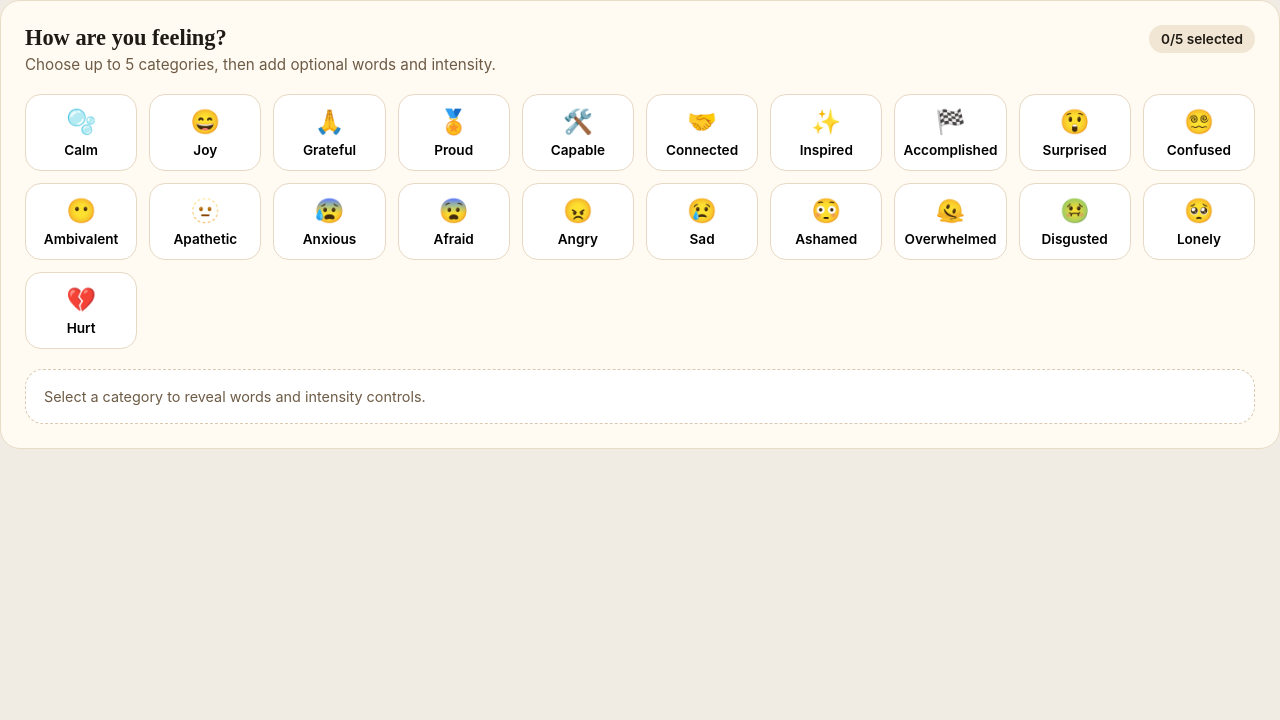
Test: EmotionPicker › enforces the max synonym cap per category
What coordinates should you click on to do the following:
click the button "🫧 Calm"
I would click on:
 (81, 132)
Its box is [25, 94, 137, 171].
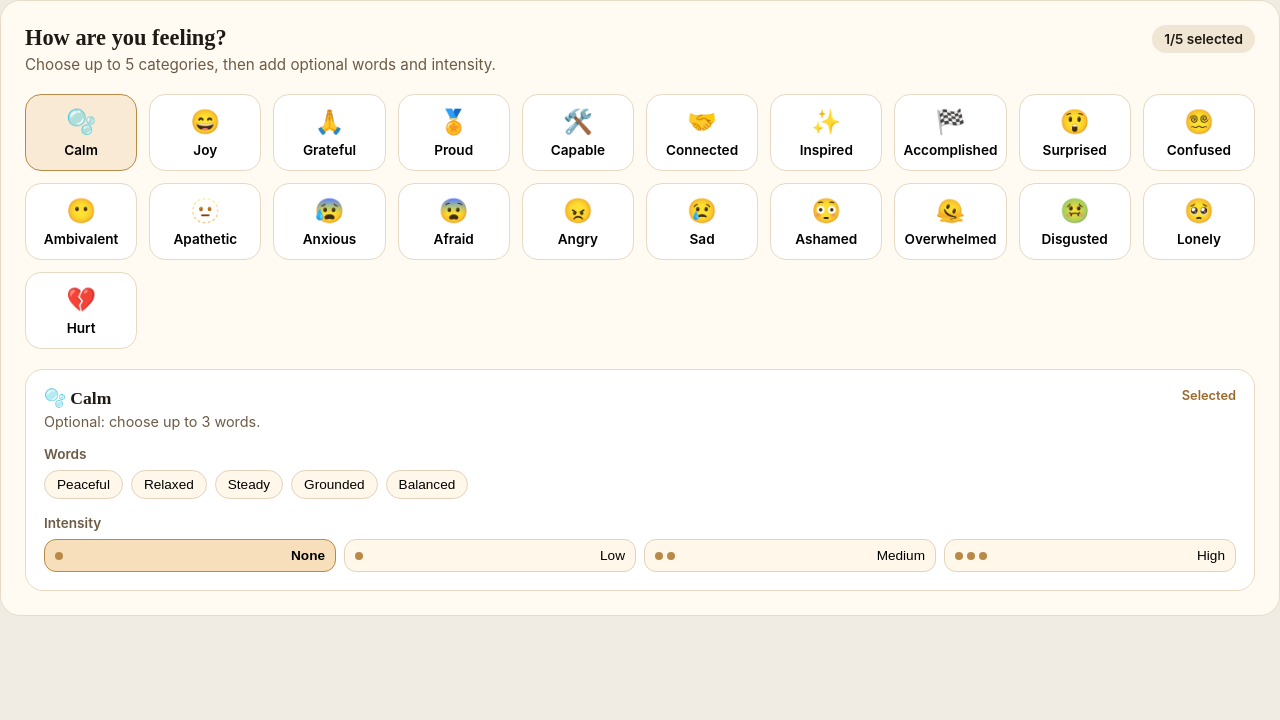
What coordinates should you click on to do the following:
click the button "Peaceful"
I would click on:
 (83, 484)
Its box is [44, 470, 123, 499].
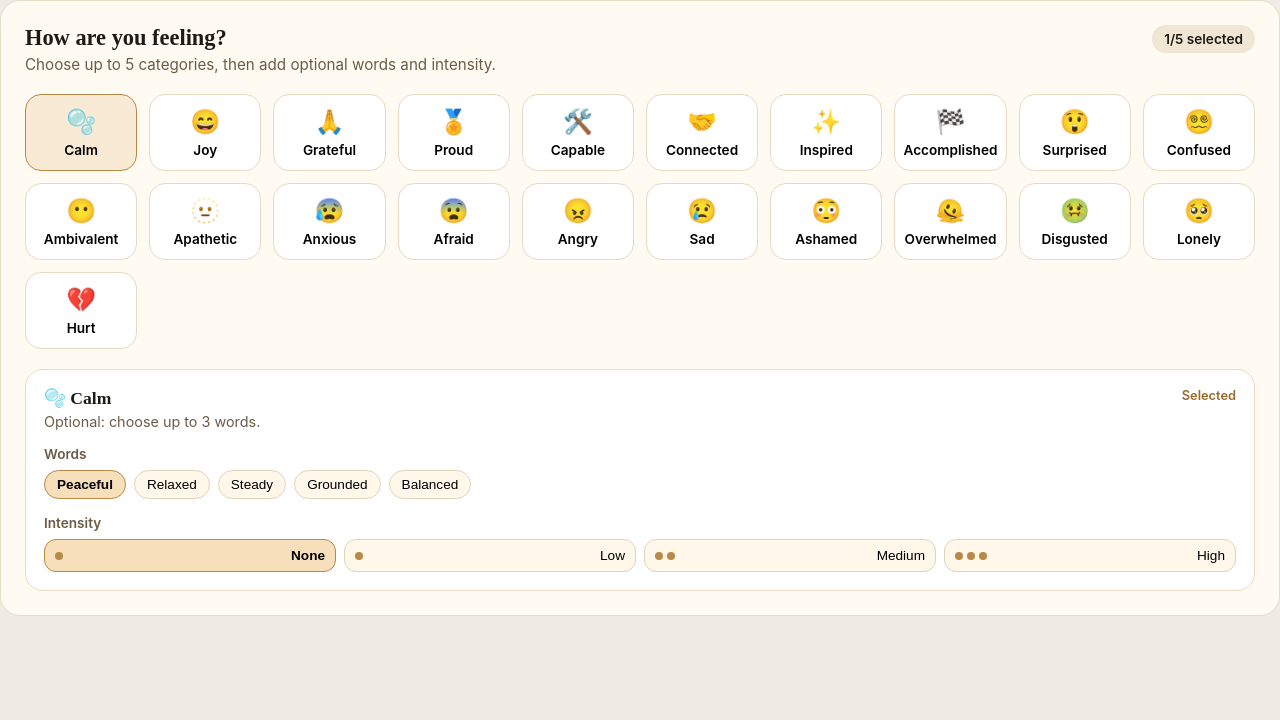
What coordinates should you click on to do the following:
click the button "Relaxed"
I would click on:
 (172, 484)
Its box is [134, 470, 210, 499].
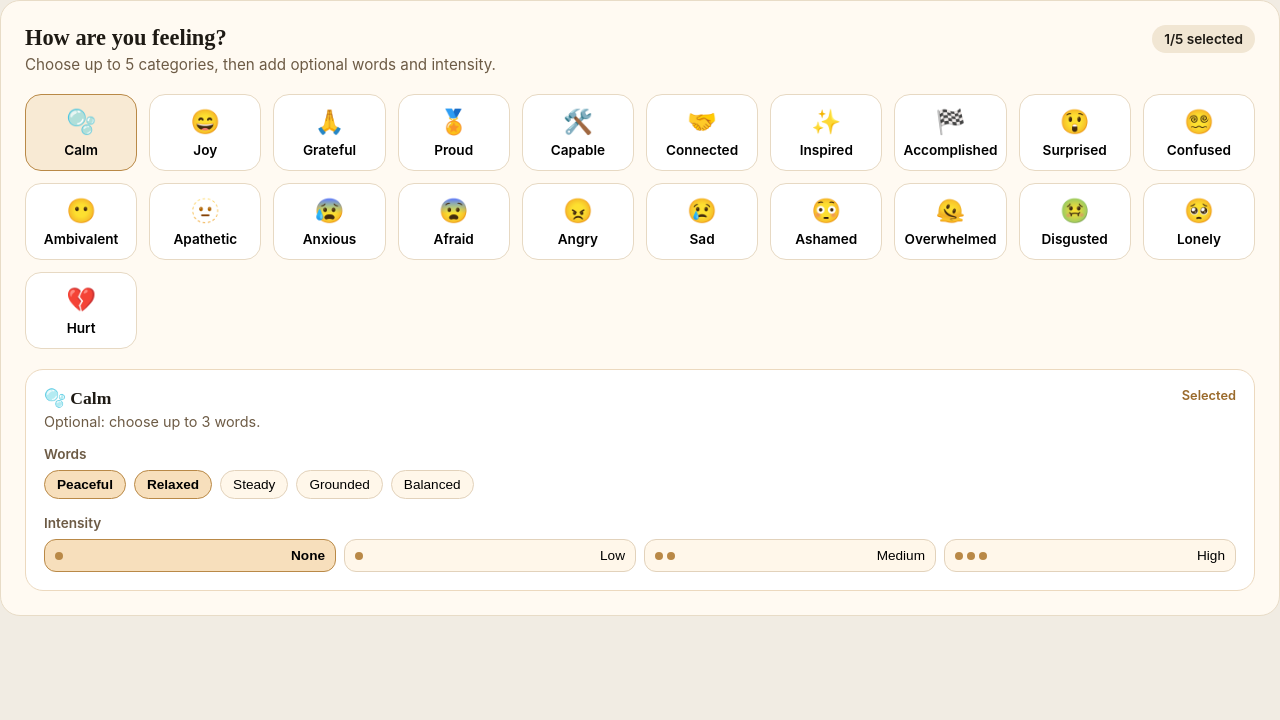
What coordinates should you click on to do the following:
click the button "Steady"
I would click on:
 (254, 484)
Its box is [220, 470, 288, 499].
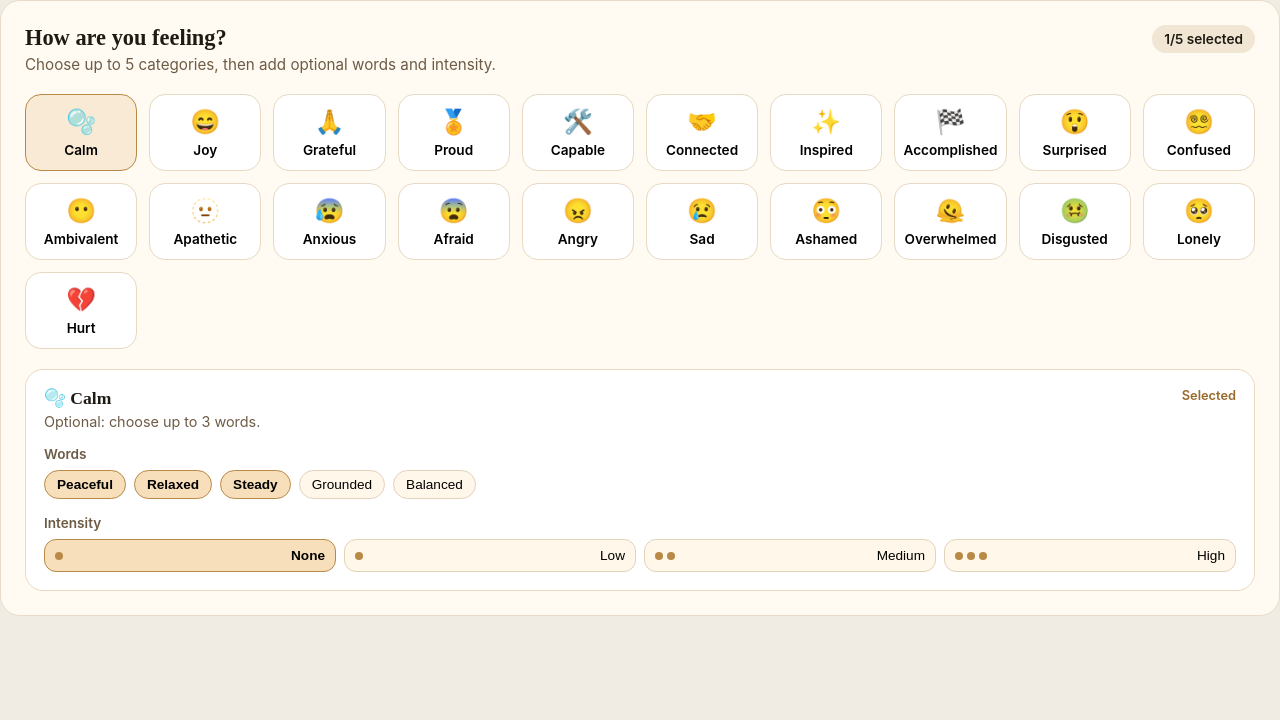
What coordinates should you click on to do the following:
click the button with aria-label "Grounded word"
I would click on:
 (342, 484)
Its box is [299, 470, 385, 499].
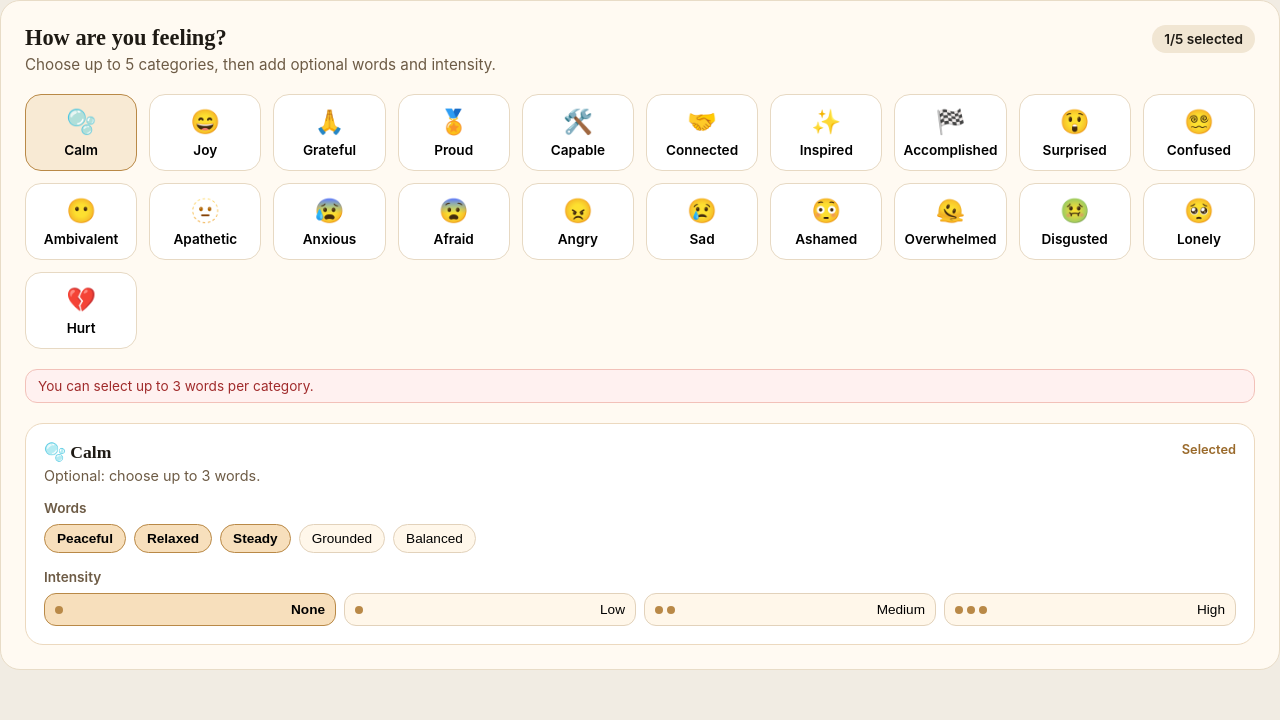
Check: the message reads "You can select up to 3 words per category.", box [38, 378, 314, 394]
